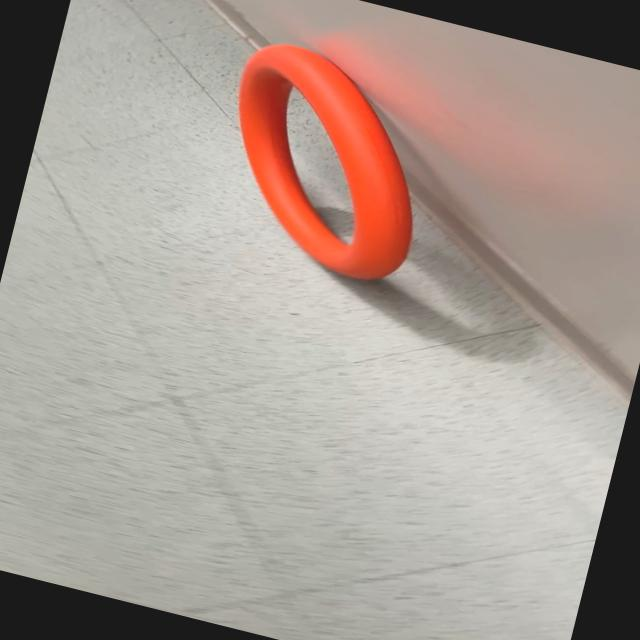note: (196, 32, 454, 292)
